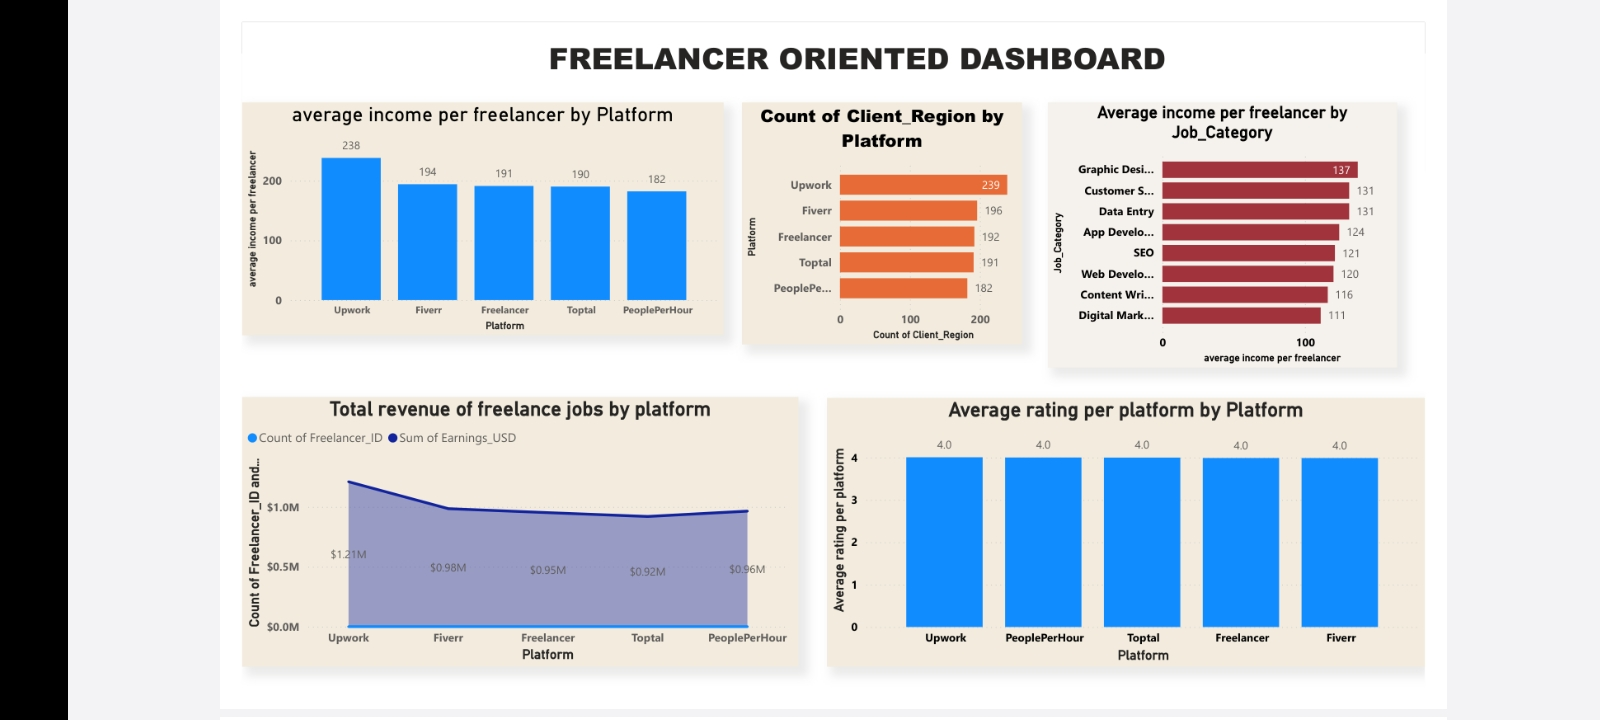

This screenshot's page, from the dashboard's own definition file:
{"tool":"powerbi","page":{"name":"Page 1","canvas":[1280,720],"ordinal":0},"visuals":[{"type":"textbox","box":[315.9,11,892.4,56.6],"z":0},{"type":"clusteredBarChart","fields":{"Category":["FREELANCER REVIEWED 2.Platform"],"Y":["CountNonNull(FREELANCER REVIEWED 2.Client_Region)"]},"box":[540.7,86.9,303.4,262.1],"z":1000},{"type":"stackedAreaChart","title":"Total revenue of freelance jobs by platform","fields":{"Category":["FREELANCER REVIEWED 2.Platform"],"Y":["CountNonNull(FREELANCER REVIEWED 2.Freelancer_ID)","Sum(FREELANCER REVIEWED 2.Earnings_USD)","select","select1"]},"box":[0,406.4,602.1,291.2],"z":2000},{"type":"clusteredColumnChart","fields":{"Y":["FREELANCER REVIEWED 2.average income per freelancer"],"Category":["FREELANCER REVIEWED 2.Platform"]},"box":[0,86.9,521.4,252.4],"z":3000},{"type":"clusteredColumnChart","fields":{"Y":["FREELANCER REVIEWED 2.Average rating per platform"],"Category":["FREELANCER REVIEWED 2.Platform"]},"box":[633.1,406.9,646.9,291],"z":4000},{"type":"barChart","title":"Average income per freelancer by Job_Category","fields":{"Category":["FREELANCER REVIEWED 2.Job_Category"],"Y":["FREELANCER REVIEWED 2.average income per freelancer"]},"box":[871.7,86.9,377.9,286.9],"z":4001}]}

Visuals, with their boxes on the page's 1280x720 design canvas (x1, y1, x2, y2). These are canvas units, not pixel positions in the 1600x720 screenshot, which may show the page scaled, cropped or inside an application window:
textbox: box=[316, 11, 1208, 68]
clusteredBarChart - FREELANCER REVIEWED 2.Platform x CountNonNull(FREELANCER REVIEWED 2.Client_Region): box=[541, 87, 844, 349]
"Total revenue of freelance jobs by platform" stackedAreaChart: box=[0, 406, 602, 698]
clusteredColumnChart - FREELANCER REVIEWED 2.average income per freelancer x FREELANCER REVIEWED 2.Platform: box=[0, 87, 521, 339]
clusteredColumnChart - FREELANCER REVIEWED 2.Average rating per platform x FREELANCER REVIEWED 2.Platform: box=[633, 407, 1280, 698]
"Average income per freelancer by Job_Category" barChart: box=[872, 87, 1250, 374]
